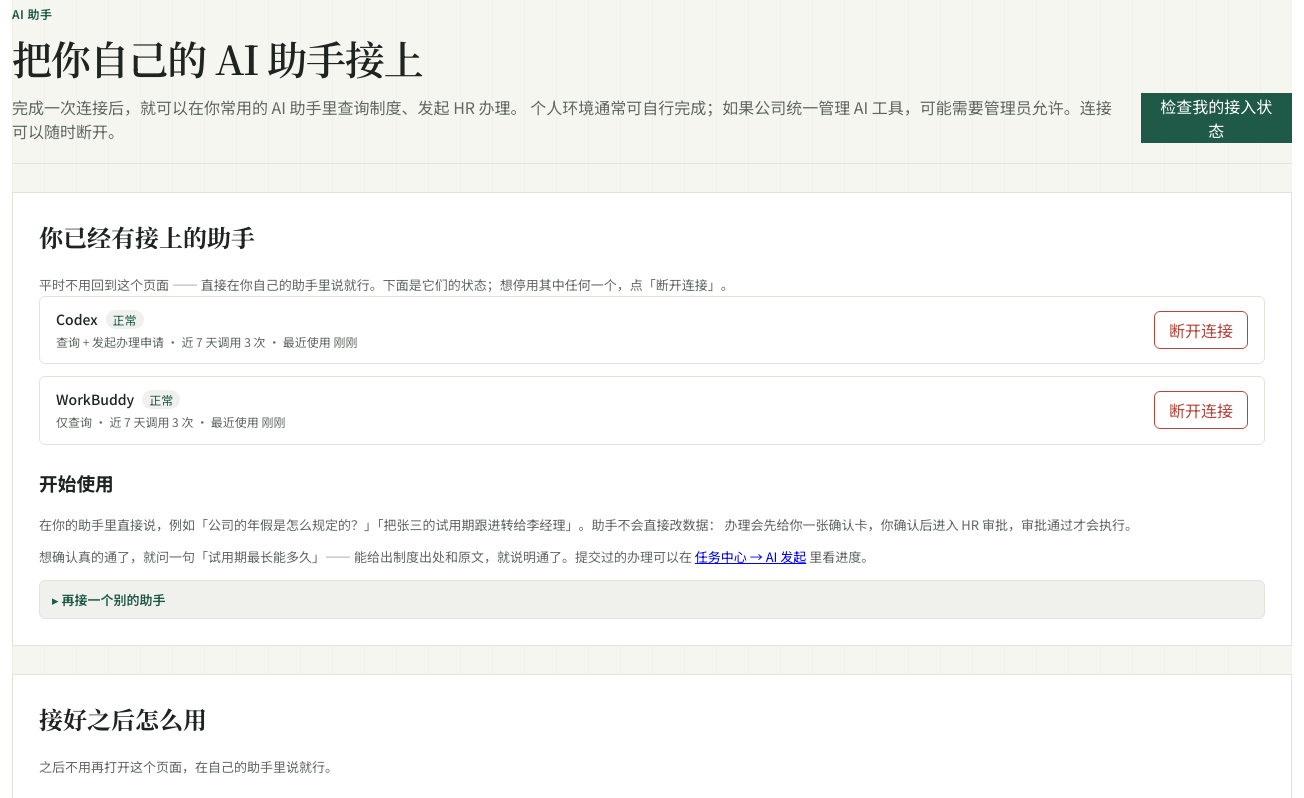
Test case: answers "am I connected" from the installation list, not from the web session
This screenshot has width=1304, height=798.
Expected: the heading "把你自己的 AI 助手接上" is shown, [12, 29, 422, 86]
Click the button "检查我的接入状态".
click(1216, 118)  # box [1141, 93, 1292, 143]
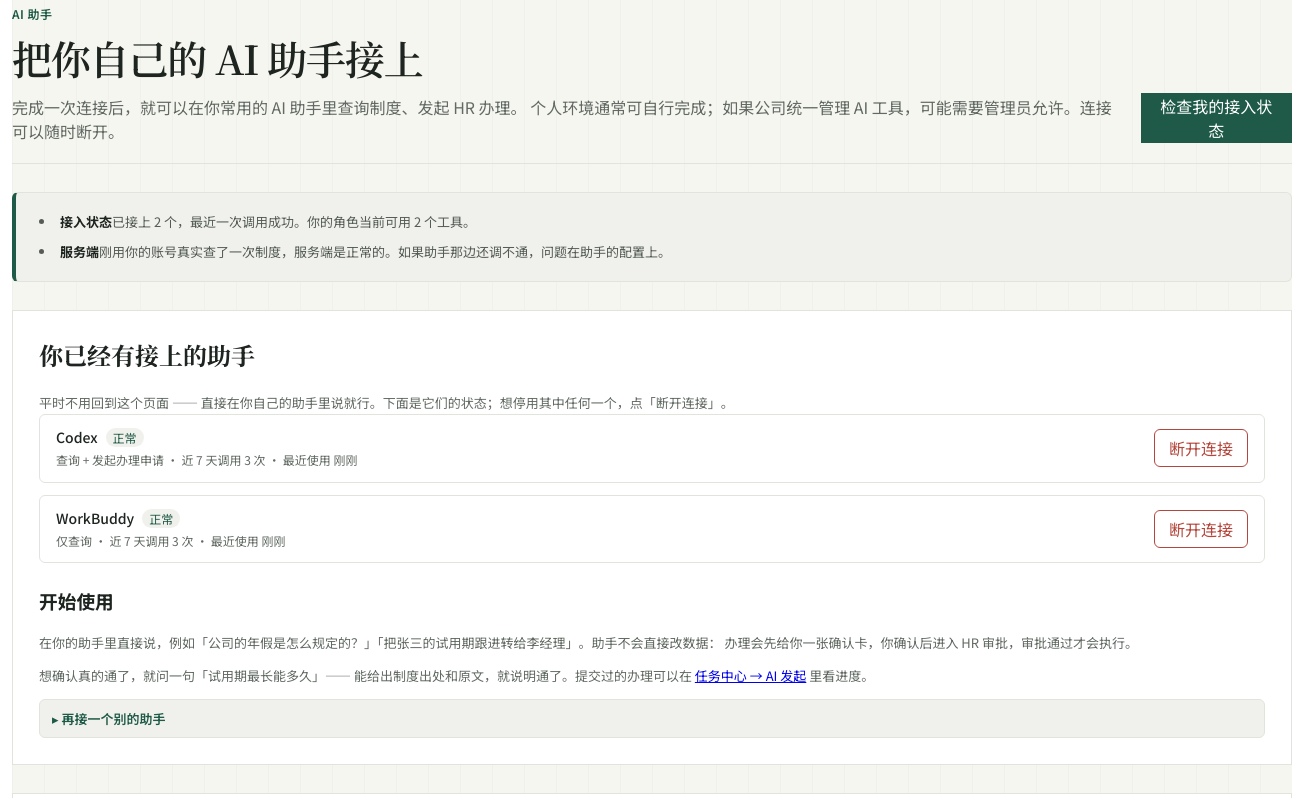
Result: the text "已接上 2 个，最近一次调用成功。你的角色当前可用 2 个工具。" is shown at [112, 212, 476, 231]
